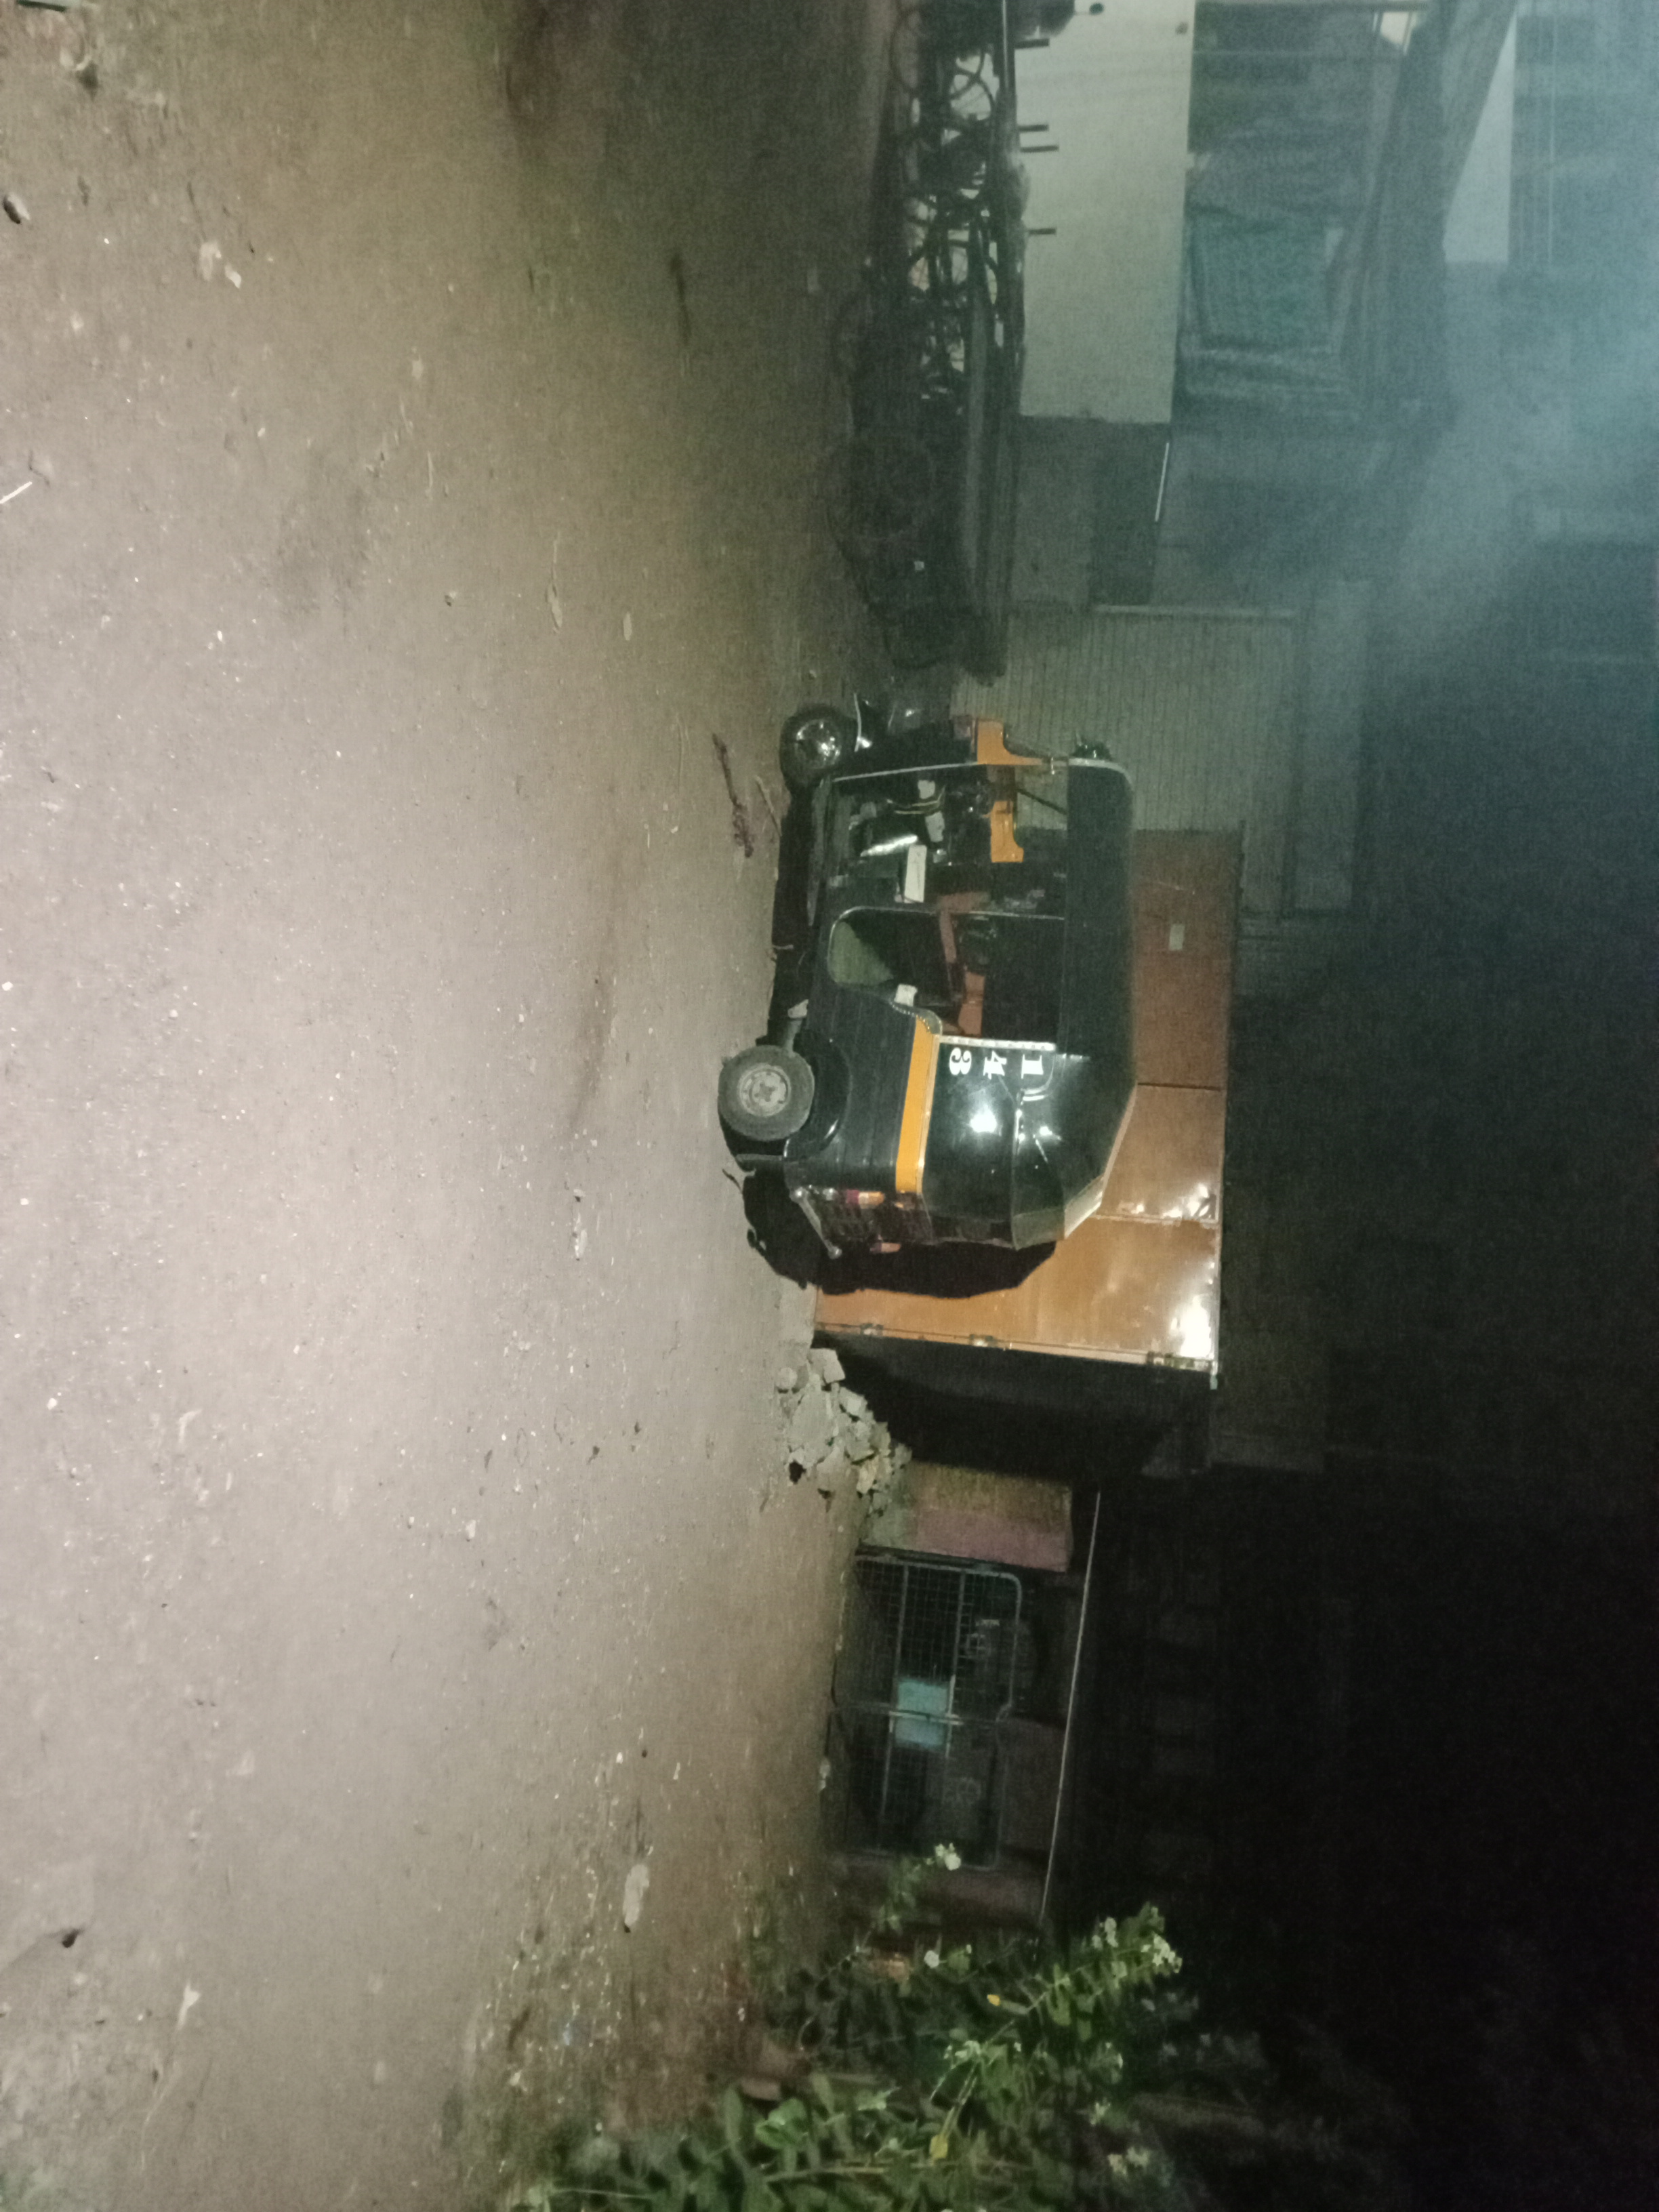auto: (725, 691, 1138, 1273)
